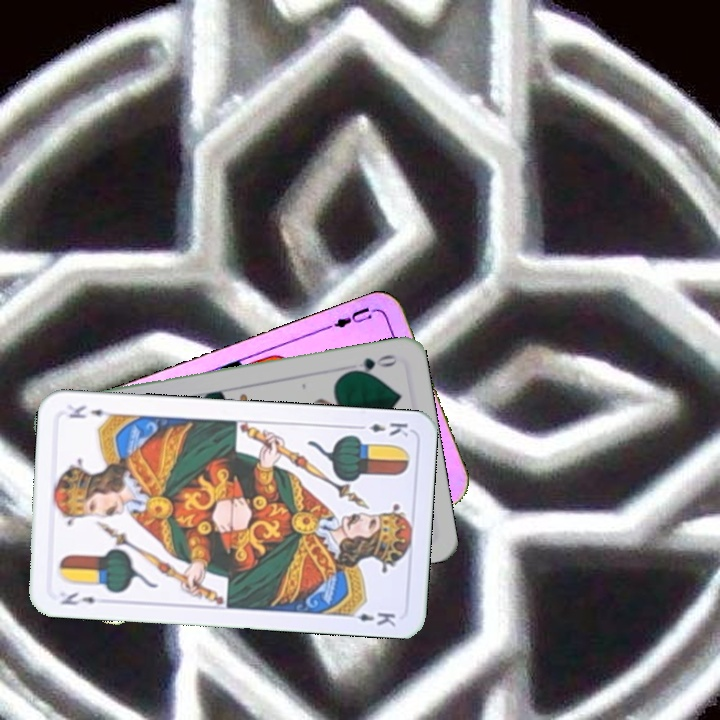EK: (352, 418, 411, 440), (57, 588, 98, 608)
EU: (323, 302, 382, 331)
GO: (343, 350, 401, 377)
